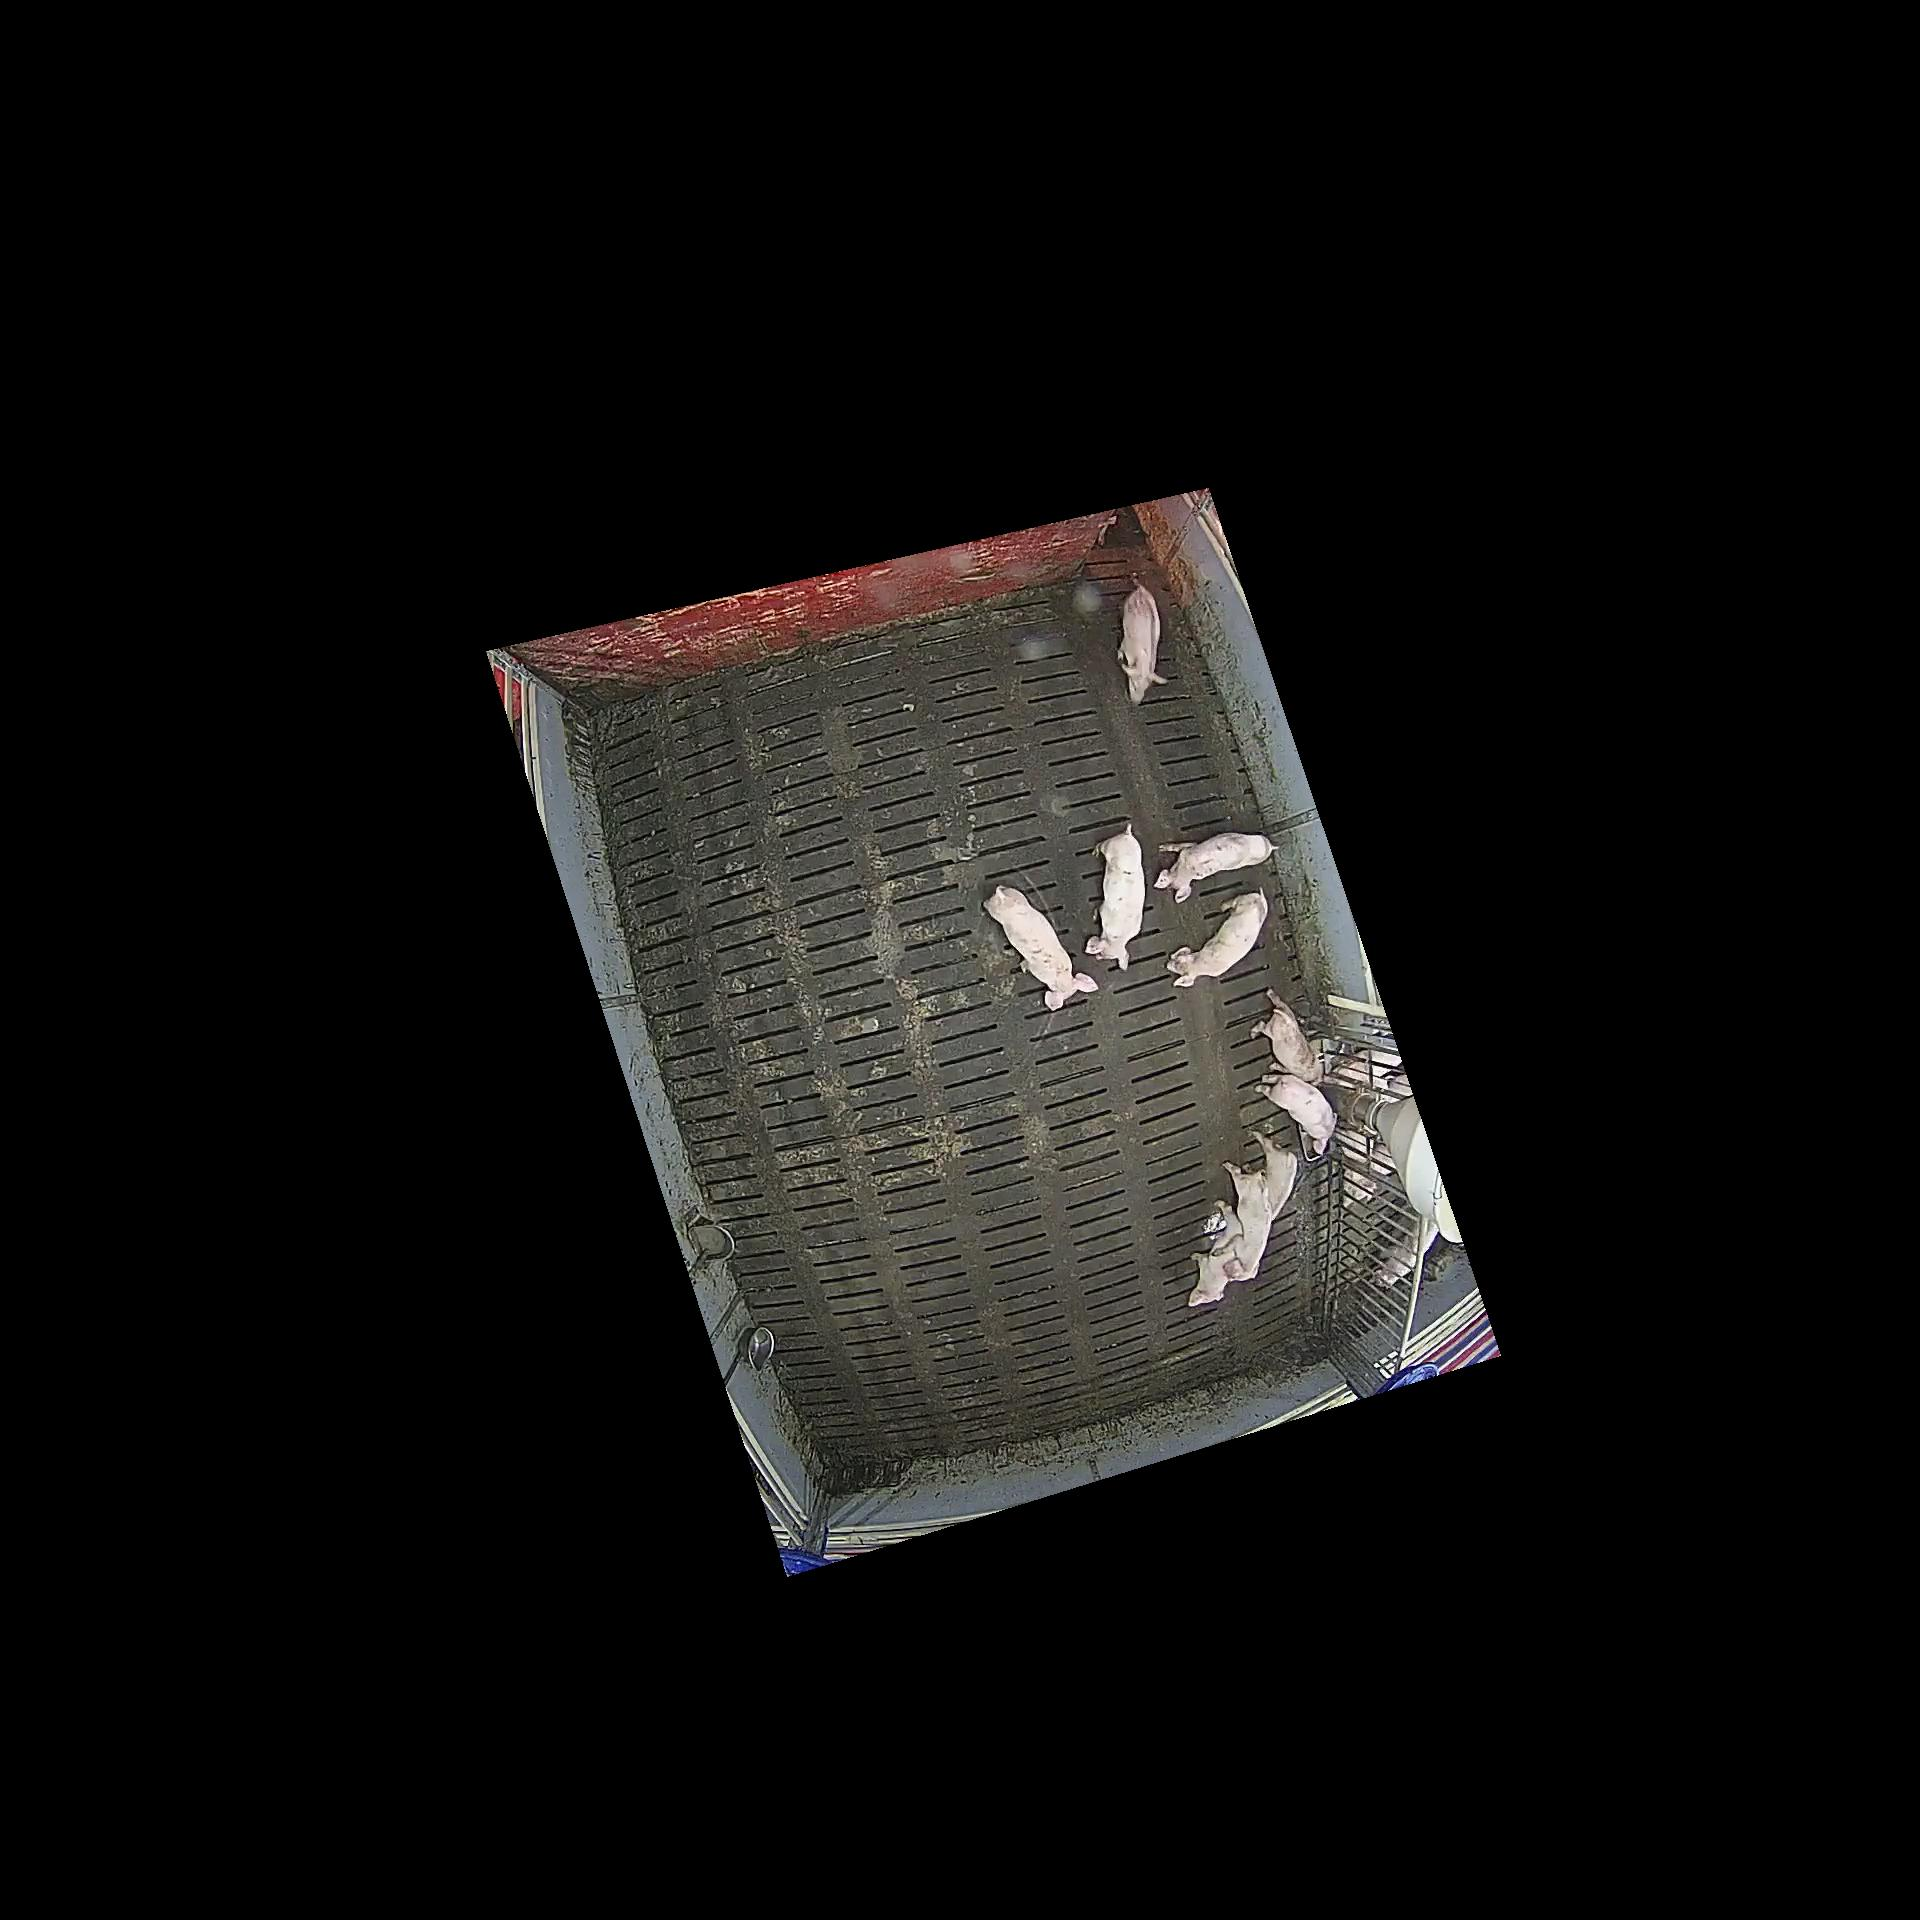pig: (983, 886, 1099, 1013), (1167, 886, 1268, 986), (1083, 825, 1146, 969), (1155, 832, 1276, 902), (1255, 1074, 1338, 1153), (1217, 1160, 1268, 1285), (1116, 578, 1167, 702), (1252, 986, 1320, 1078), (1190, 1201, 1234, 1312), (1250, 1131, 1298, 1218)
